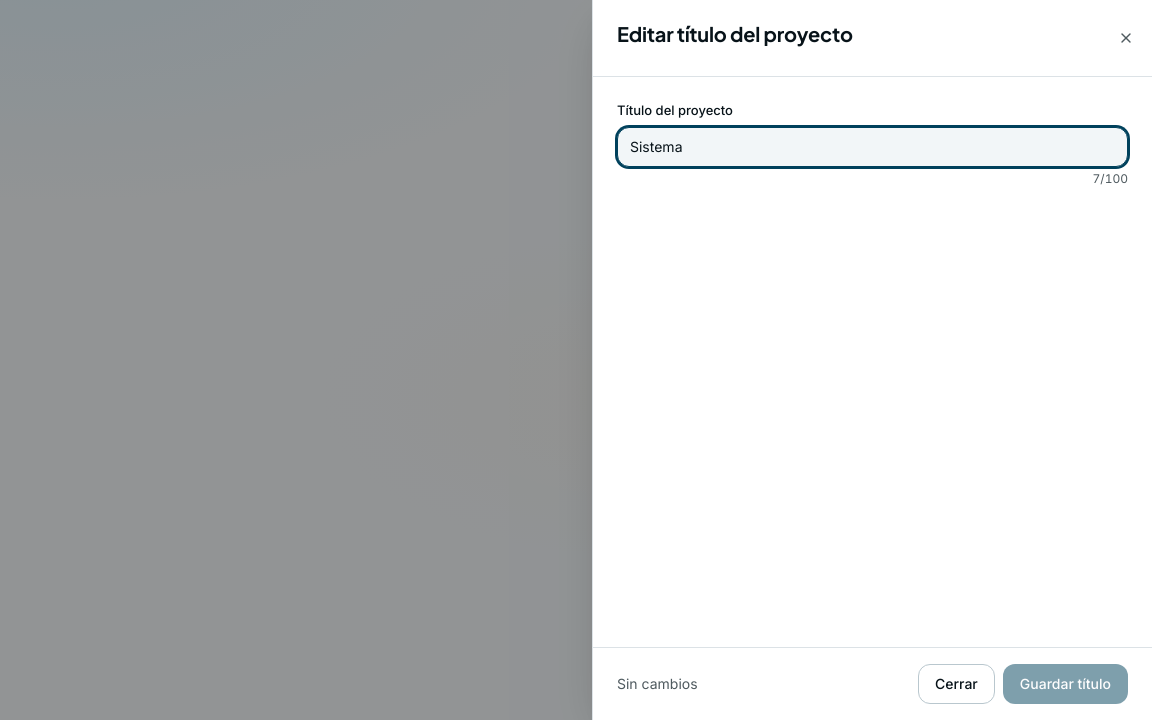
EditarTituloForm › cerrar sin cambios reinicia la mutación; con cambios pide confirmar
The width and height of the screenshot is (1152, 720).
Click the button "Cerrar" at (956, 684), box [918, 664, 995, 704]
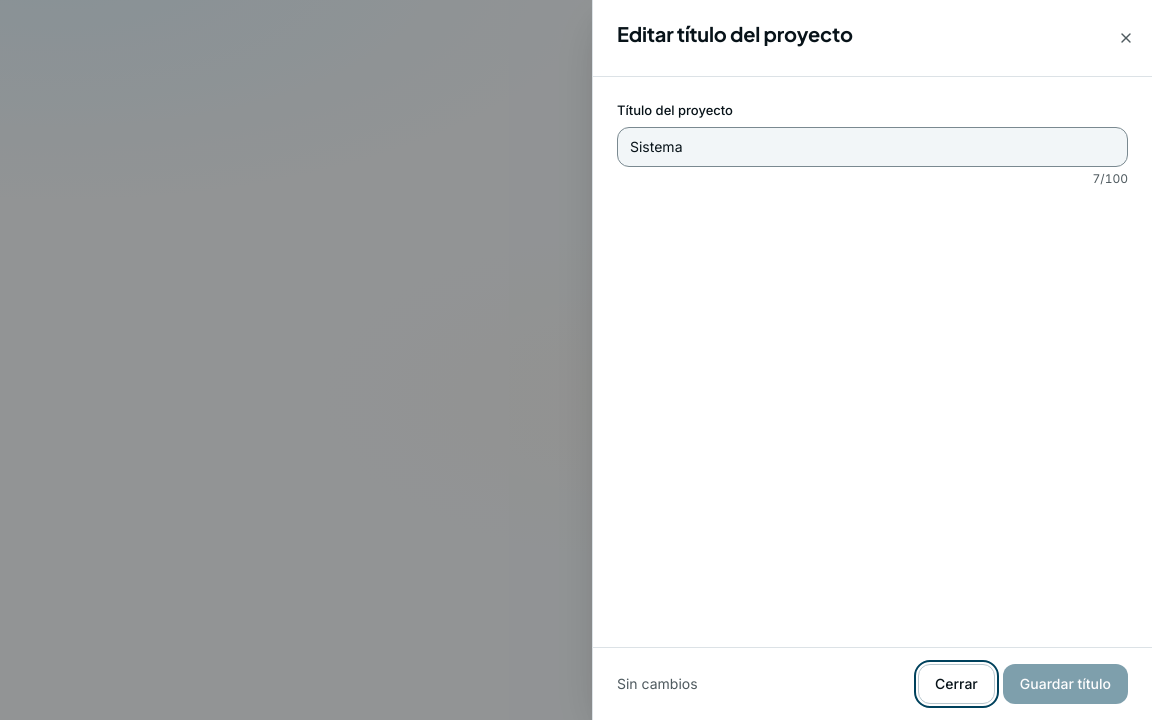
Type "!" into the field labelled "Título del proyecto" at (872, 146), box [617, 126, 1128, 166]
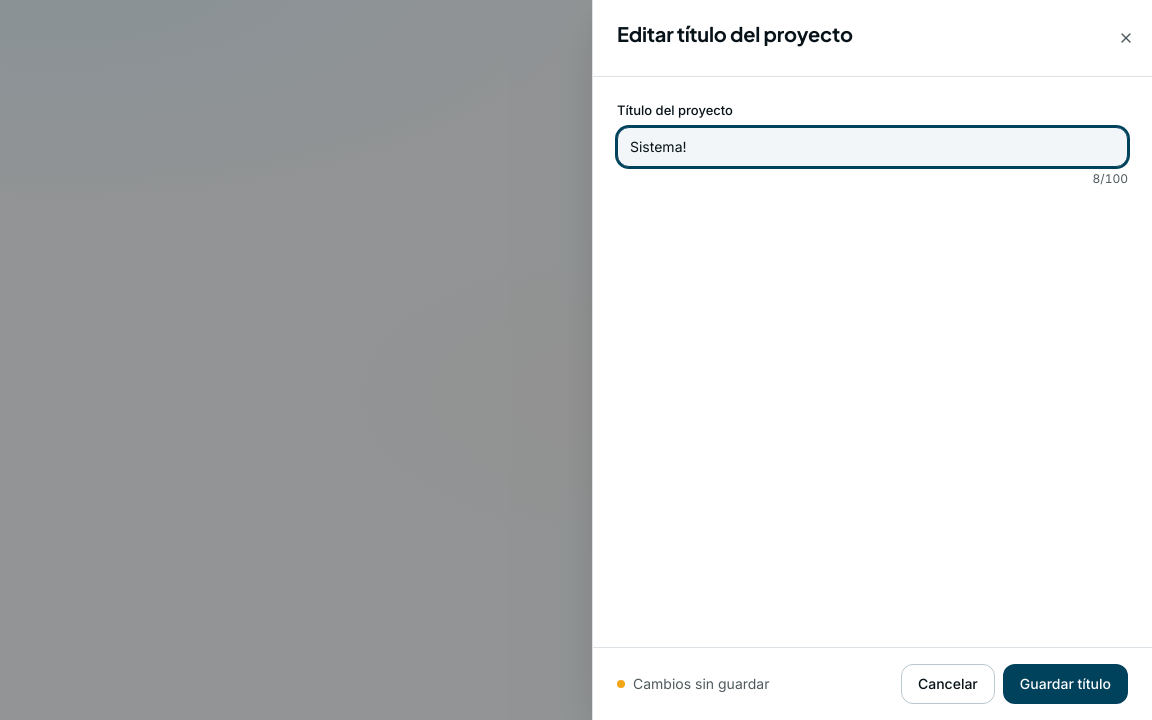
Click the button "Cancelar" at (948, 684), box [901, 664, 995, 704]
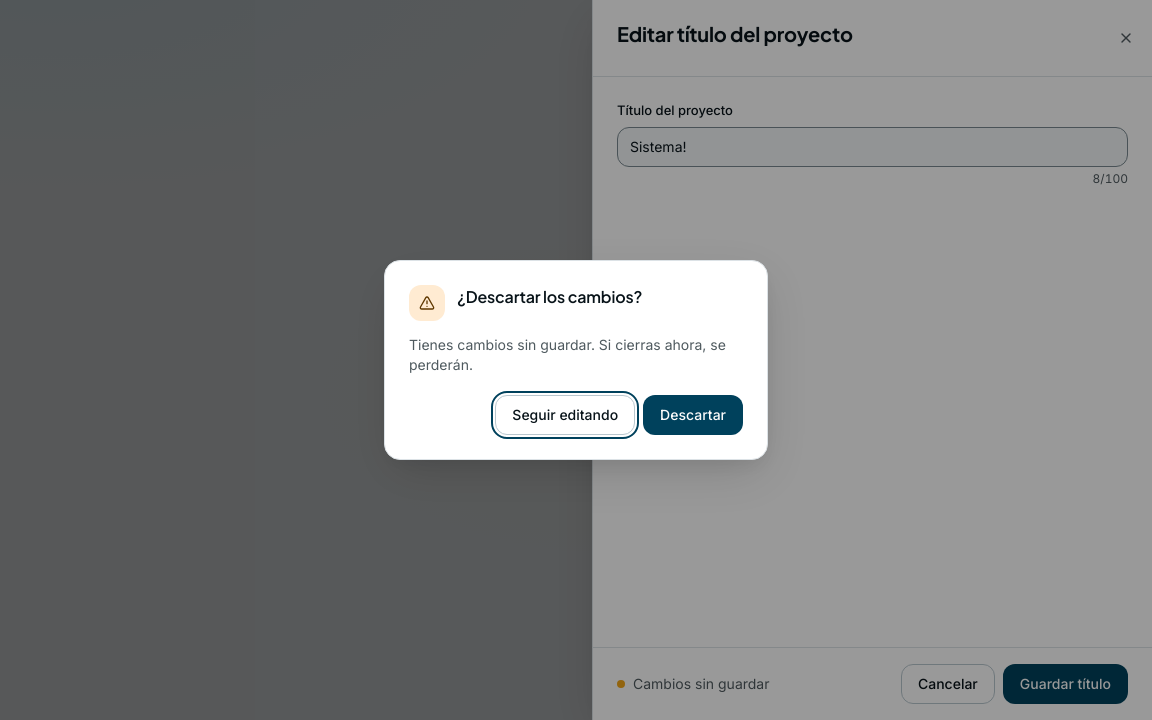
Now the heading "¿Descartar los cambios?" is shown, box [457, 285, 642, 309]
